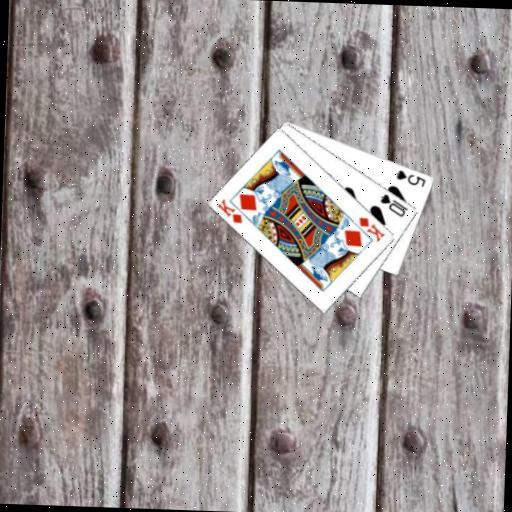10S: (377, 190, 410, 218)
5S: (393, 166, 428, 188)
KD: (355, 214, 386, 244), (213, 196, 244, 225)
